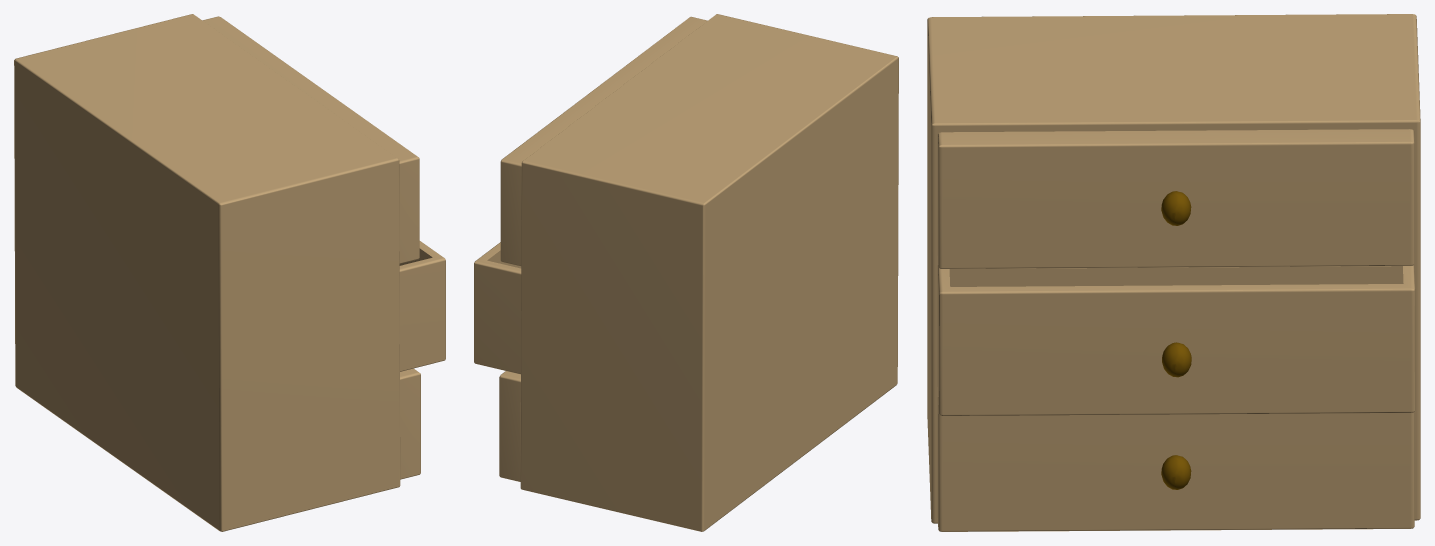
Rendered from nightstand_LOD1.fbx.
3 renders of one model, left to right at view 1: azimuth 30°, elevation 25°; view 2: azimuth 150°, elevation 25°; view 3: azimuth 270°, elevation 25°, orthographic. The views are drawn at different scales.
Parts seen in each view (by area): view 1: nightstand; view 2: nightstand; view 3: nightstand.
Boxes of the visible parts, x1,y1,x2,y2 form: nightstand: [14, 14, 445, 531]; nightstand: [474, 14, 898, 531]; nightstand: [927, 14, 1420, 531].
Bounding box in the file's own units: 197 × 243 × 271.
